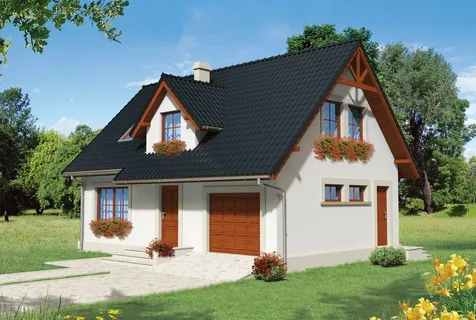private_hause: (78, 60, 404, 255)
